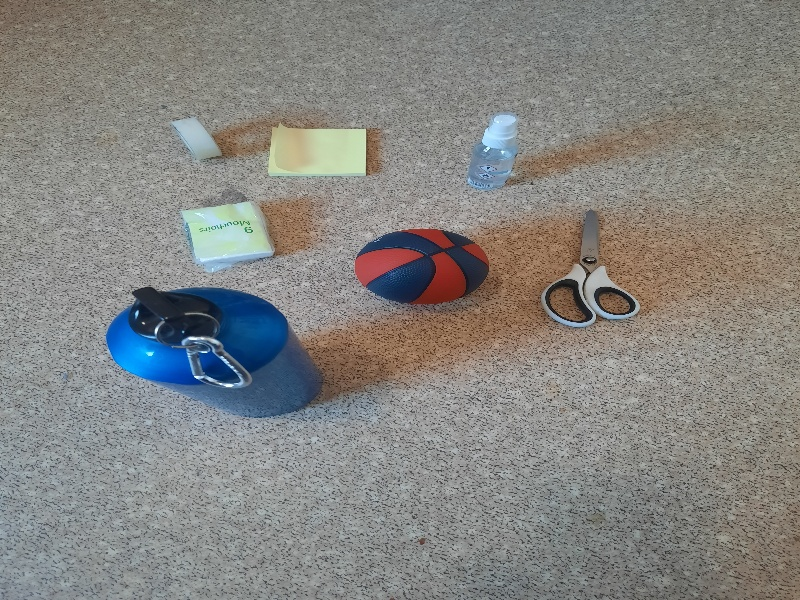ballon: (355, 227, 492, 306)
ciseaux: (542, 209, 640, 328)
gel: (466, 114, 521, 189)
gourde: (104, 285, 326, 421)
mouchoirs: (179, 201, 282, 272)
post-it: (269, 125, 369, 177)
scotch: (171, 116, 223, 159)
